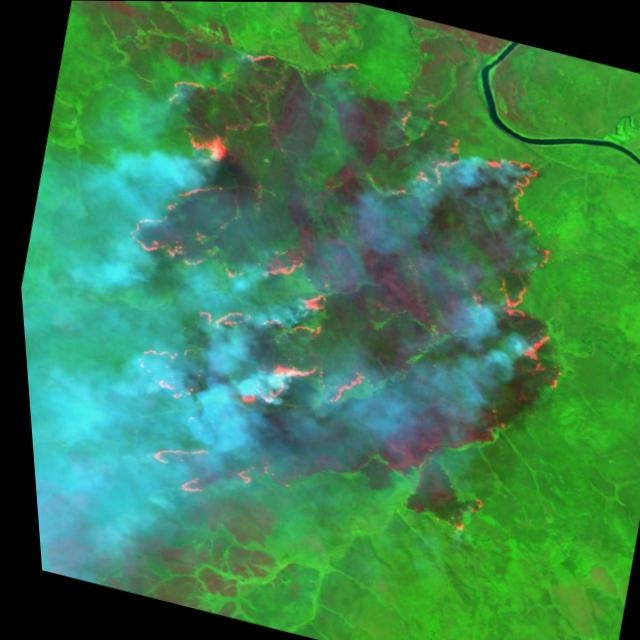fire: (41, 5, 636, 585)
